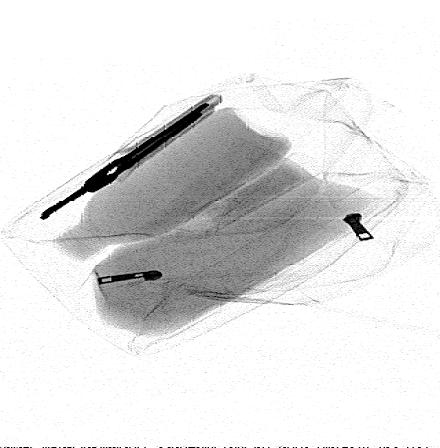Pliers: (38, 97, 209, 222)
